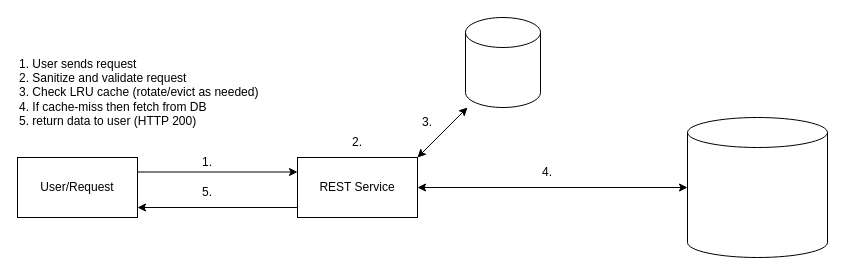
The diagram is 845 pixels wide and 275 high, and some of its shapes have lost their labels. The shapes that lost their labels are listed below. From the top down, each one's centre as x and y in pixels, then its label:
At (502,62): "In-memory cache".
At (757,187): "Database (Postgres)".
